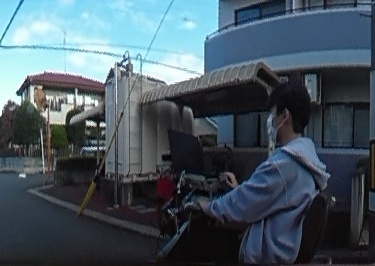person: (183, 79, 331, 266)
